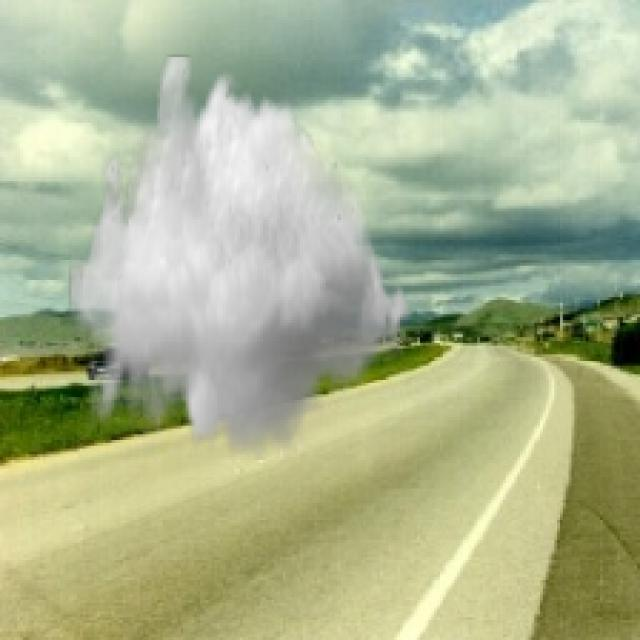Smoke: (69, 54, 418, 460)
